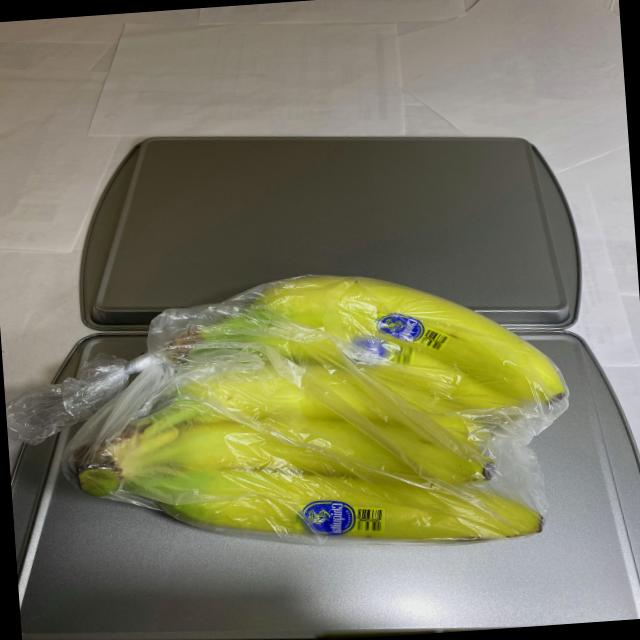banana: (51, 256, 576, 578)
